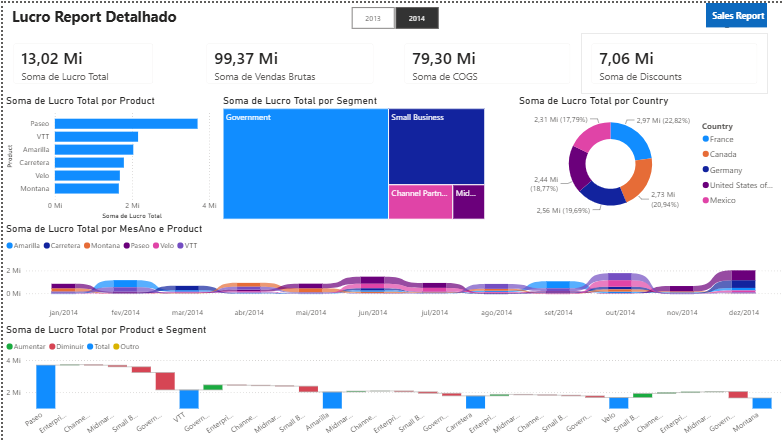

This screenshot's page, from the dashboard's own definition file:
{"tool":"powerbi","page":{"name":"Lucro Report Detalhado","canvas":[1280,720],"ordinal":4},"visuals":[{"type":"textbox","box":[10.6,0,306.7,49],"z":0},{"type":"cardVisual","fields":{"Data":["Sum(financials.Lucro Total)"]},"box":[0,48.9,263.8,100],"z":1000},{"type":"cardVisual","fields":{"Data":["Sum(financials.Vendas Brutas)"]},"box":[317,48.9,308.5,100],"z":2000},{"type":"cardVisual","fields":{"Data":["Sum(financials.COGS)"]},"box":[640.8,49,306.1,100],"z":3000},{"type":"cardVisual","fields":{"Data":["Sum(financials.Discounts)"]},"box":[947.8,49,306.7,100.1],"z":4000},{"type":"slicer","fields":{"Values":["financials.Year"]},"box":[545.2,0,191.7,49],"z":5000},{"type":"clusteredBarChart","fields":{"Category":["financials.Product"],"Y":["Sum(financials.Lucro Total)"]},"box":[0,149,355.1,210.2],"z":6000},{"type":"treemap","fields":{"Group":["financials.Segment"],"Values":["Sum(financials.Lucro Total)"]},"box":[355.3,148.9,438.8,210.2],"z":7000},{"type":"donutChart","fields":{"Category":["financials.Country"],"Y":["Sum(financials.Lucro Total)"]},"box":[840.8,149,438.8,210.2],"z":8000},{"type":"waterfallChart","fields":{"Breakdown":["financials.Segment"],"Category":["financials.Product"],"Y":["Sum(financials.Lucro Total)"]},"box":[0,525,1280.8,194.2],"z":9000},{"type":"ribbonChart","fields":{"Category":["financials.MesAno"],"Series":["financials.Product"],"Y":["Sum(financials.Lucro Total)"]},"box":[0,359.6,1280.9,166],"z":10000},{"type":"actionButton","box":[1153.2,0,100,40],"z":11000}]}

Visuals, with their boxes in screenshot pixels (x1, y1, x2, y2), scaled from the page's 1280x720 canvas onto the 783x442 screenshot:
textbox: [6,0,194,30]
cardVisual - Sum(financials.Lucro Total): [0,30,161,91]
cardVisual - Sum(financials.Vendas Brutas): [194,30,383,91]
cardVisual - Sum(financials.COGS): [392,30,579,91]
cardVisual - Sum(financials.Discounts): [580,30,767,92]
slicer - financials.Year: [334,0,451,30]
clusteredBarChart - financials.Product x Sum(financials.Lucro Total): [0,91,217,221]
treemap - financials.Segment x Sum(financials.Lucro Total): [217,91,486,220]
donutChart - financials.Country x Sum(financials.Lucro Total): [514,91,782,221]
waterfallChart - financials.Segment x financials.Product: [0,322,782,441]
ribbonChart - financials.MesAno x financials.Product: [0,221,782,323]
actionButton: [705,0,767,25]
